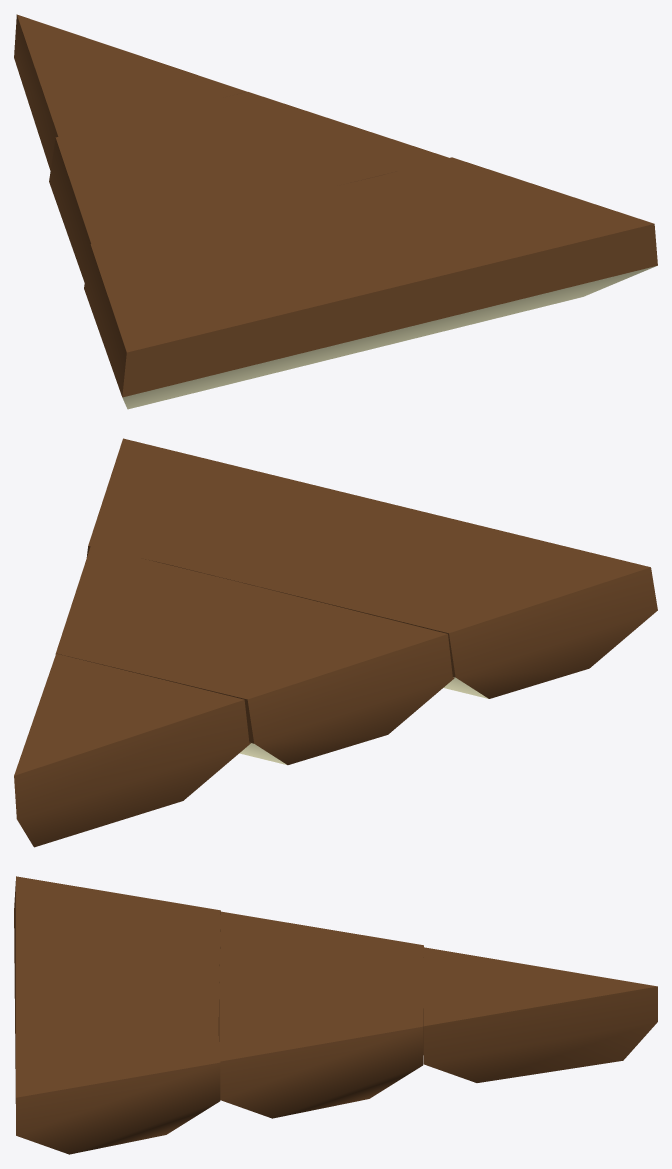
The model's file is w45_wood_2_willowSplitLogTriFloorSection2.glb.
3 views of the same model, one above another, from view 1: azimuth 30°, elevation 25°; view 2: azimuth 150°, elevation 25°; view 3: azimuth 270°, elevation 25° (orthographic). The views are drawn at different scales.
Parts seen in each view (by area): view 1: inside; view 2: inside; view 3: inside.
Part boxes in pixels (x1,y1,x2,y2): inside: [14, 14, 657, 409]; inside: [14, 438, 657, 847]; inside: [14, 876, 657, 1154].
Bounding box in the file's own units: 0.7907 × 0.1233 × 0.9557.
